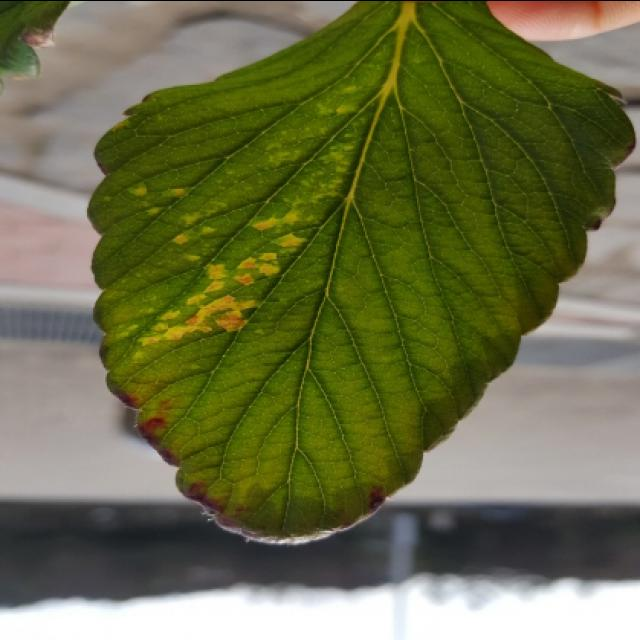Angular Leafspot: (102, 67, 381, 367)
